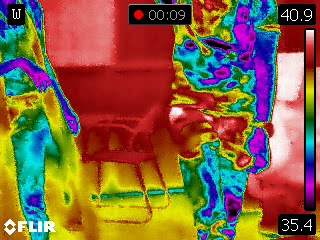human: (161, 1, 280, 239), (1, 1, 84, 238)
